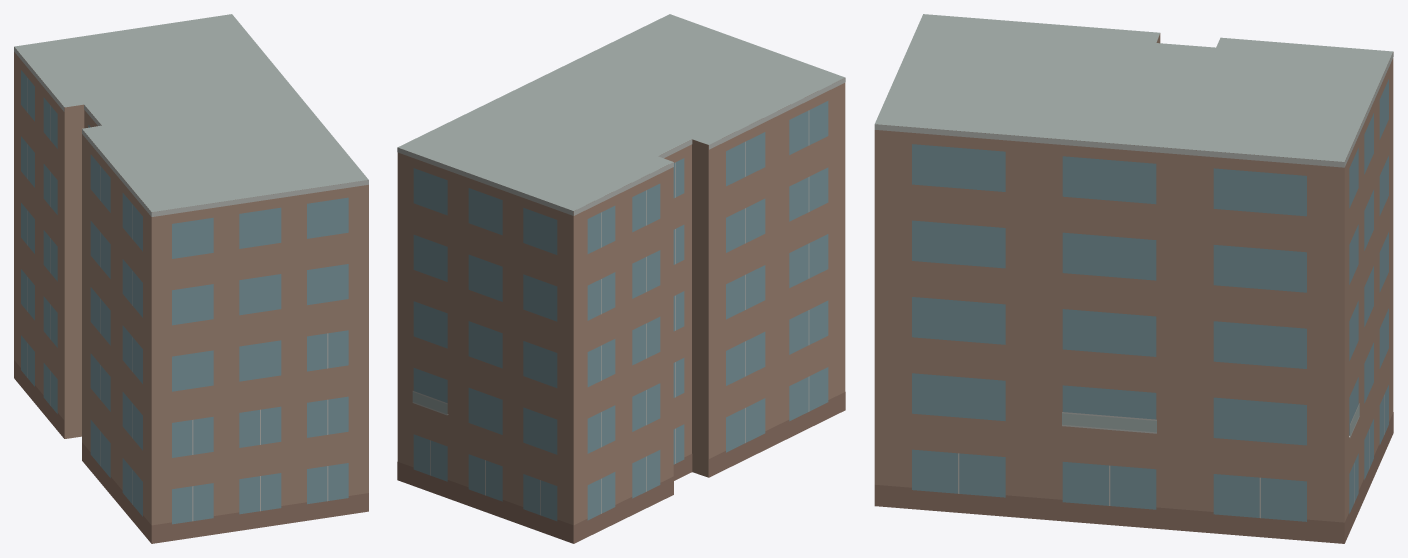
The model's file is survey-upis-32707738.glb.
The picture shows the model from 3 angles, left to right: view 1: azimuth 30°, elevation 25°; view 2: azimuth 150°, elevation 25°; view 3: azimuth 270°, elevation 25°; orthographic projection. The views are drawn at different scales.
Parts seen in each view (by area): view 1: survey-upis-32707738.tmp; view 2: survey-upis-32707738.tmp; view 3: survey-upis-32707738.tmp.
Boxes of the visible parts, x1,y1,x2,y2 form: survey-upis-32707738.tmp: (14, 14, 368, 543); survey-upis-32707738.tmp: (397, 14, 845, 543); survey-upis-32707738.tmp: (874, 14, 1393, 543).
Size of the model in its own units: 13.72 by 16.5 by 20.33.
